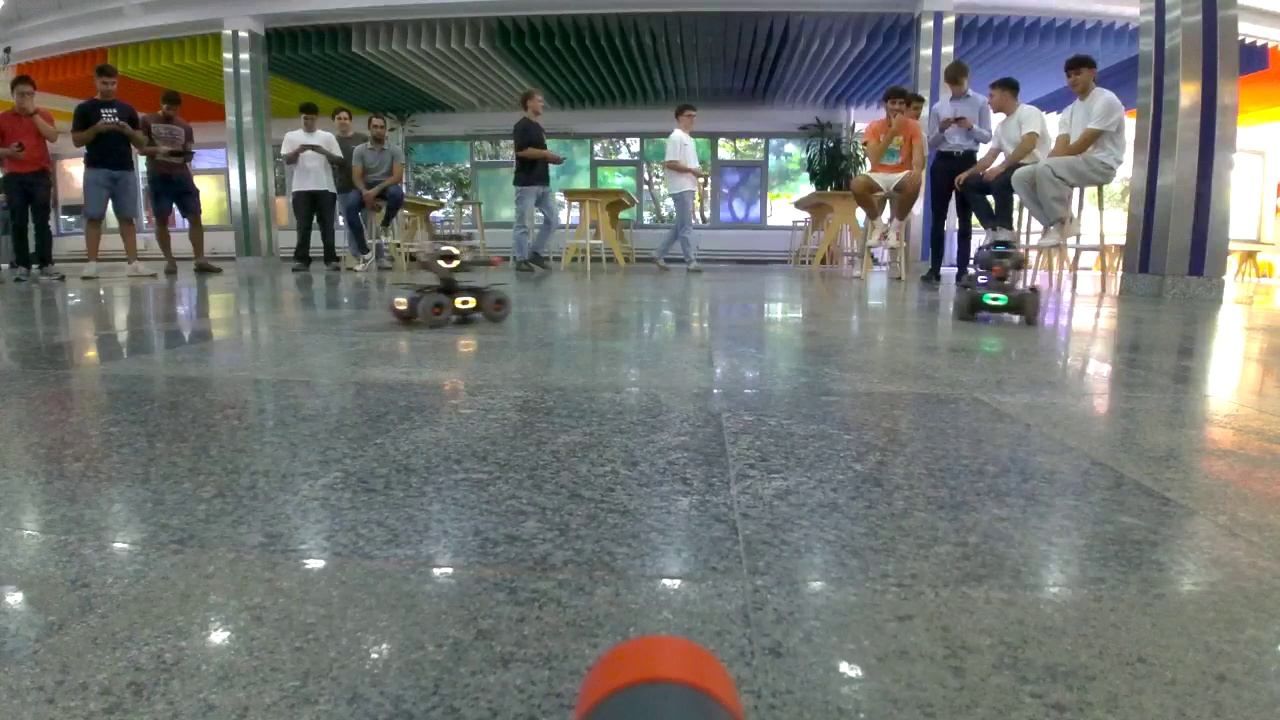robot: (389, 241, 512, 327), (950, 238, 1042, 324)
